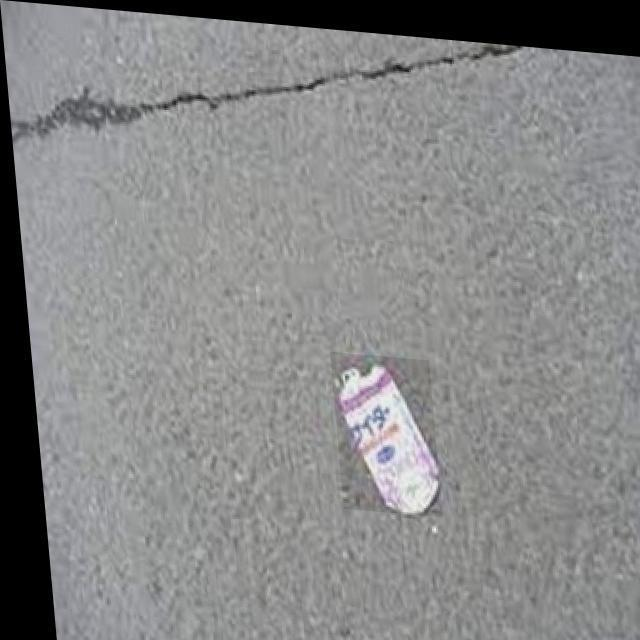trash: (323, 346, 433, 510)
